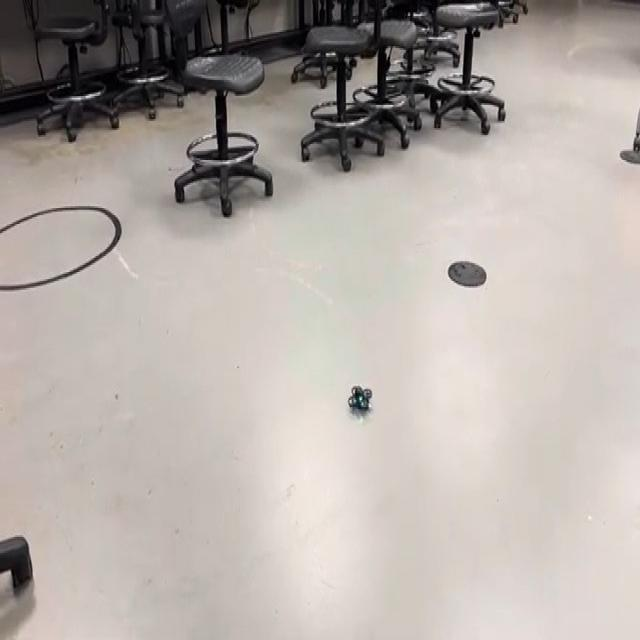drone: (343, 369, 379, 430)
